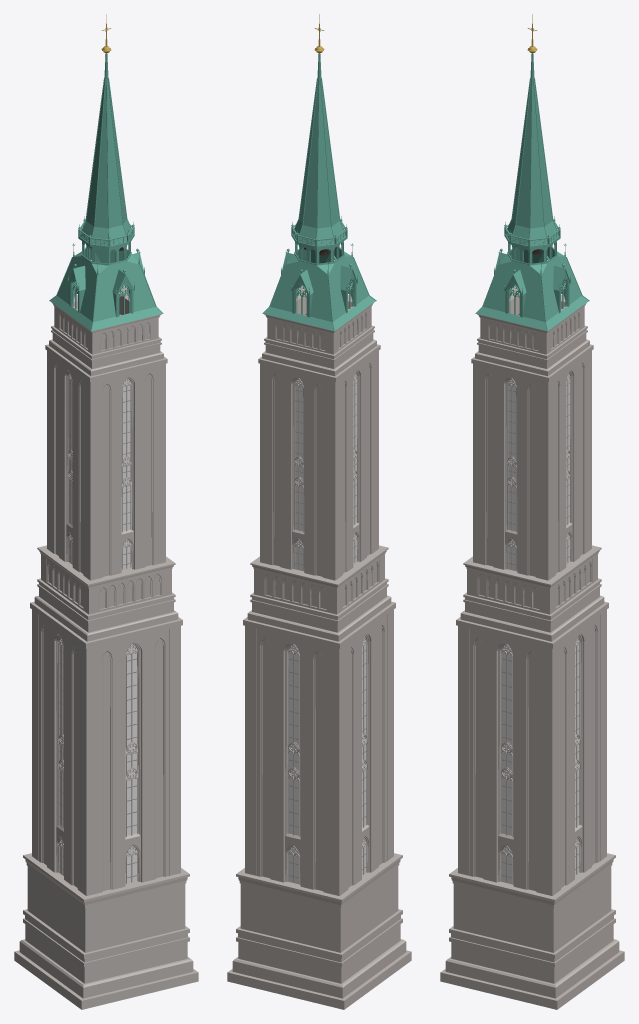
File: tower1_1.fbx
3 renders of one model, left to right at view 1: azimuth 30°, elevation 25°; view 2: azimuth 150°, elevation 25°; view 3: azimuth 330°, elevation 25°, orthographic.
Parts seen in each view (by area): view 1: Unity_Export_Mesh.001; view 2: Unity_Export_Mesh.001; view 3: Unity_Export_Mesh.001.
Part boxes in pixels (bbox=[...]): Unity_Export_Mesh.001: bbox=[14, 14, 198, 1009]; Unity_Export_Mesh.001: bbox=[227, 14, 411, 1009]; Unity_Export_Mesh.001: bbox=[440, 14, 624, 1009].
Bounding box in the file's own units: 111 × 870 × 111.
